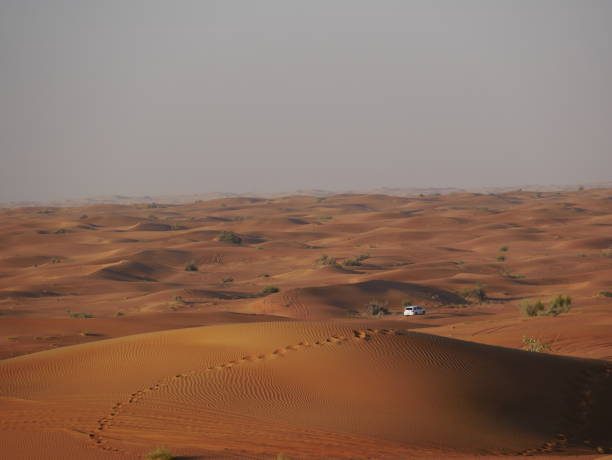human_footprint: (89, 335, 349, 451)
